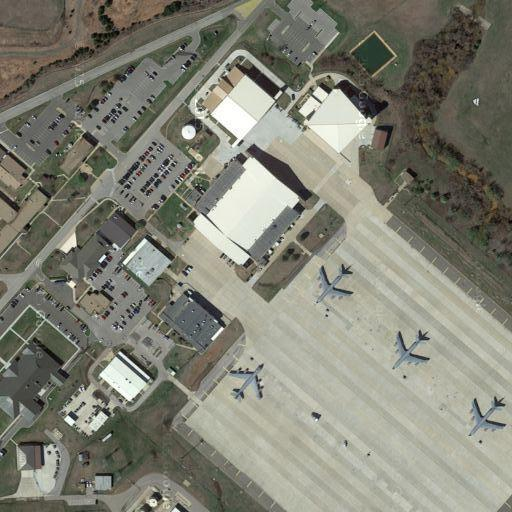KC-135: (388, 324, 433, 374), (313, 260, 359, 307), (228, 357, 269, 404), (465, 395, 508, 439)
